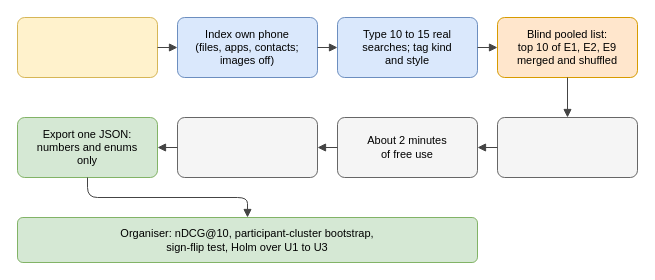
Image size: 655x280. Some labels were removed from this diagram. Each missing label, with the box of its shape:
Consent screen (study build, no INTERNET permission): (16, 16, 158, 78)
Mark each item relevant or not; was the target there?: (496, 116, 638, 178)
SUS questionnaire (10 items): (176, 116, 318, 178)
